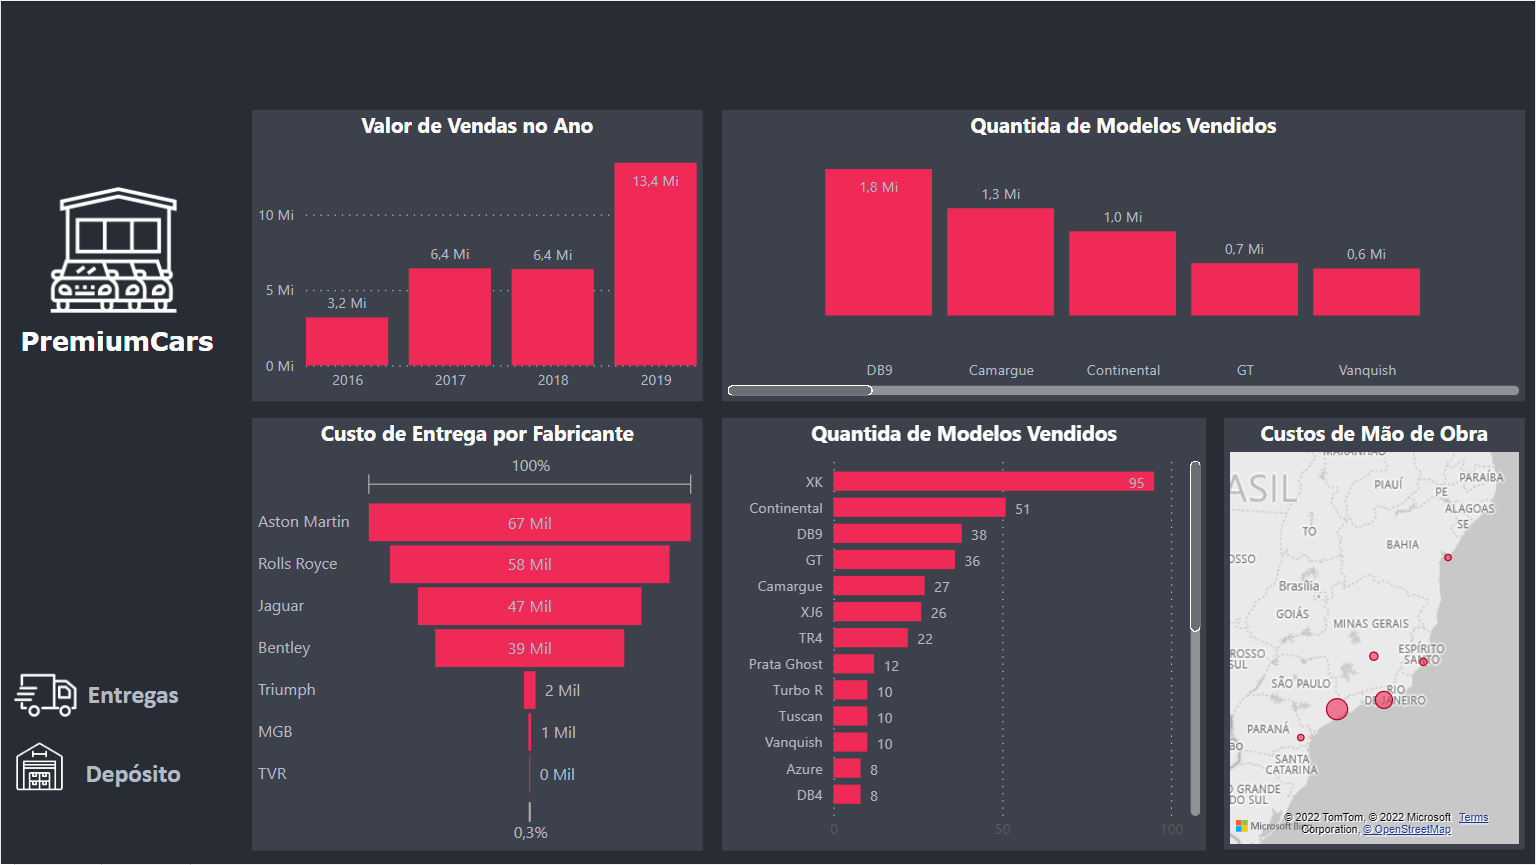

The page's visual inventory and layout, read from the dashboard file:
{"tool":"powerbi","page":{"name":"Financeiro","canvas":[1280,720],"ordinal":0},"visuals":[{"type":"columnChart","title":"Valor de Vendas no Ano","fields":{"Category":["VendaCarros.Ano"],"Y":["Sum(VendaCarros.ValorVenda)"]},"box":[209.5,91.3,375.9,243.5],"z":0},{"type":"image","box":[5.4,547.8,64.4,61.8],"z":0,"group":"g2"},{"type":"funnel","title":"Custo de Entrega por Fabricante","fields":{"Category":["VendaCarros.Fabricante"],"Y":["Sum(VendaCarros.CustoEntrega)"]},"box":[209.5,348.2,375.9,360.7],"z":1000},{"type":"textbox","box":[35.8,560.3,148.6,36.7],"z":1000,"group":"g2"},{"type":"map","title":"Custos de Mão de Obra","fields":{"Category":["VendaCarros.Estado"],"Size":["Sum(VendaCarros.CustoMaoDeObra)"]},"box":[1020.2,348,250.6,360.4],"z":2000},{"type":"clusteredBarChart","title":"Quantida de Modelos Vendidos","fields":{"Category":["VendaCarros.Modelo"],"Y":["CountNonNull(VendaCarros.ValorVenda)"]},"box":[601.5,348.2,403.7,360.7],"z":3000},{"type":"columnChart","title":"Quantida de Modelos Vendidos","fields":{"Category":["VendaCarros.Modelo"],"Y":["Medidas.FaturamentoPorVeiculo"]},"box":[601.5,91.3,669.5,243.5],"z":4000},{"type":"image","box":[2.7,150.4,181.7,115.5],"z":5000},{"type":"textbox","box":[8.1,265.8,176.3,62.7],"z":6000},{"type":"group","id":"g1","title":"Grupo 1","box":[0,606.9,184.4,63.6],"z":7000},{"type":"image","box":[5.4,606.9,53.7,63.6],"z":7000,"group":"g1"},{"type":"actionButton","box":[0,547.8,184.4,59.1],"z":7001,"group":"g2"},{"type":"group","id":"g2","title":"Grupo 2","box":[0,547.8,184.4,61.8],"z":8000},{"type":"textbox","box":[35.8,626.6,148.6,36.7],"z":8000,"group":"g1"},{"type":"actionButton","box":[0,606.9,184.4,61.8],"z":9000,"group":"g1"}]}

Visuals, with their boxes in screenshot pixels (x1, y1, x2, y2), scaled from the page's 1280x720 canvas onto the 1536x865 screenshot:
"Valor de Vendas no Ano" columnChart: l=251, t=110, r=702, b=402
image: l=6, t=658, r=84, b=732
"Custo de Entrega por Fabricante" funnel: l=251, t=418, r=702, b=852
textbox: l=43, t=673, r=221, b=717
"Custos de Mão de Obra" map: l=1224, t=418, r=1525, b=851
"Quantida de Modelos Vendidos" clusteredBarChart: l=722, t=418, r=1206, b=852
"Quantida de Modelos Vendidos" columnChart: l=722, t=110, r=1525, b=402
image: l=3, t=181, r=221, b=319
textbox: l=10, t=319, r=221, b=395
"Grupo 1" group: l=0, t=729, r=221, b=806
image: l=6, t=729, r=71, b=806
actionButton: l=0, t=658, r=221, b=729
"Grupo 2" group: l=0, t=658, r=221, b=732
textbox: l=43, t=753, r=221, b=797
actionButton: l=0, t=729, r=221, b=803
